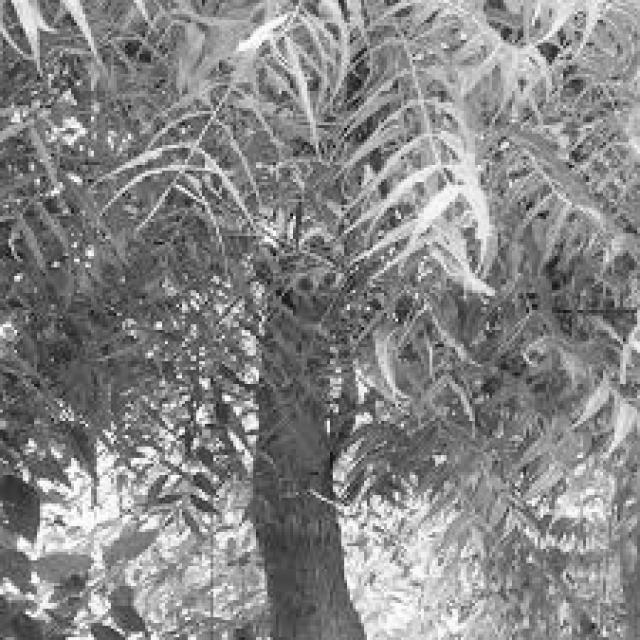Neem-Tree: (1, 0, 640, 390)
